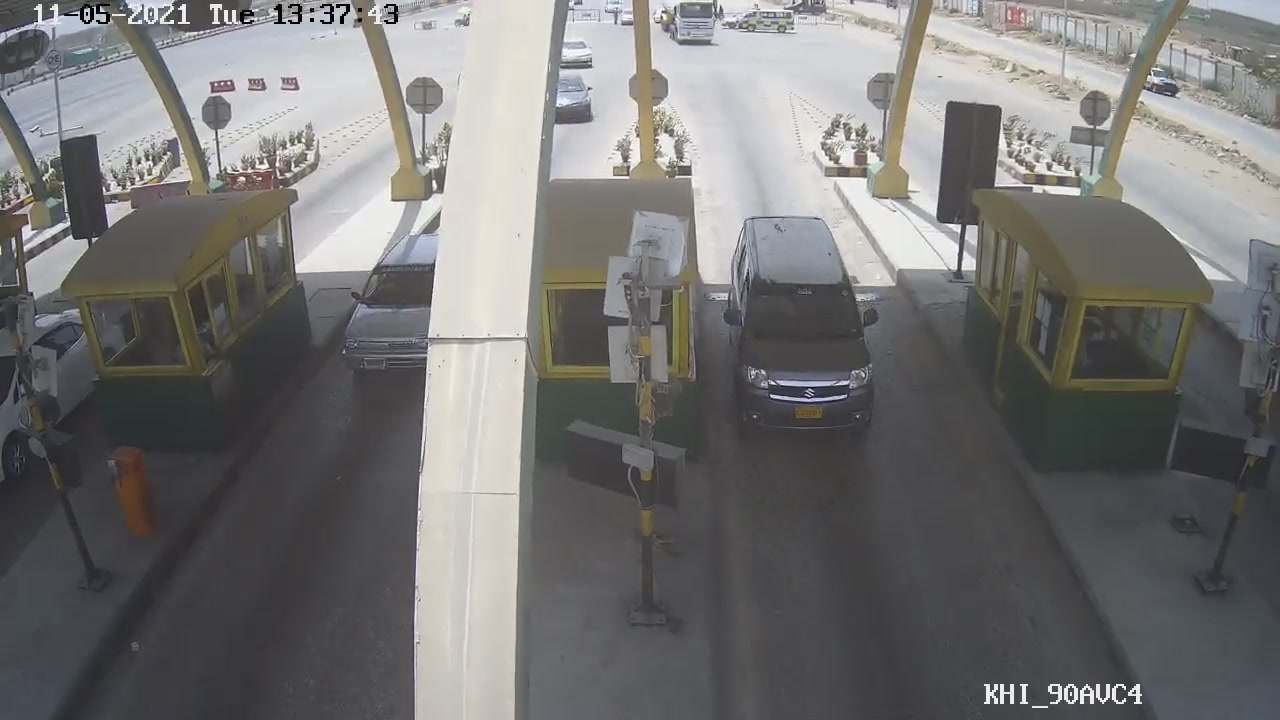F1: (720, 208, 884, 448)
